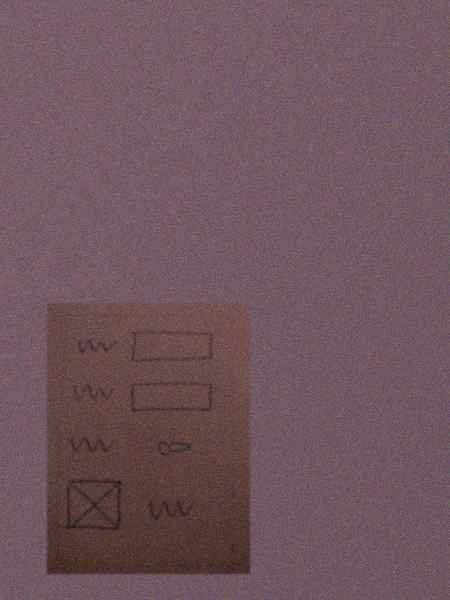image: (63, 478, 127, 535)
switch: (151, 438, 198, 459)
text: (143, 494, 200, 525), (69, 382, 119, 407), (67, 434, 120, 456), (74, 337, 118, 356)
text_input: (127, 327, 218, 366), (128, 380, 219, 417)
